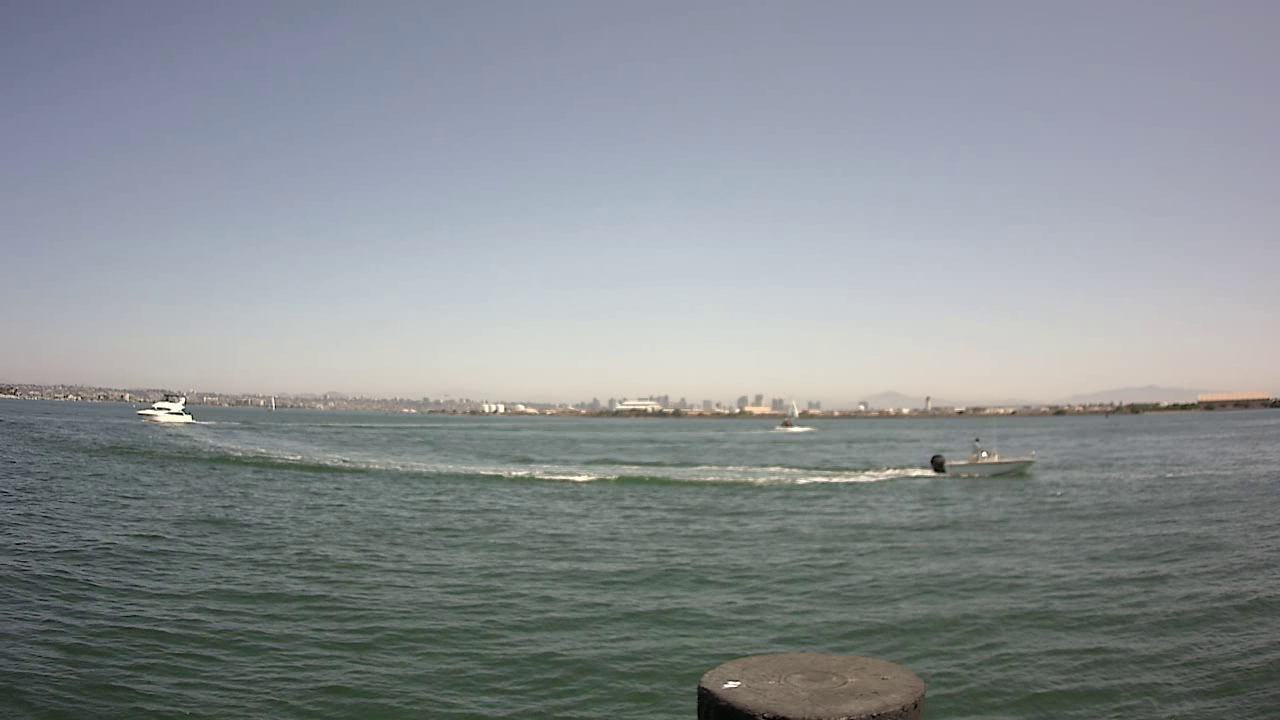target: (927, 427, 1040, 484)
